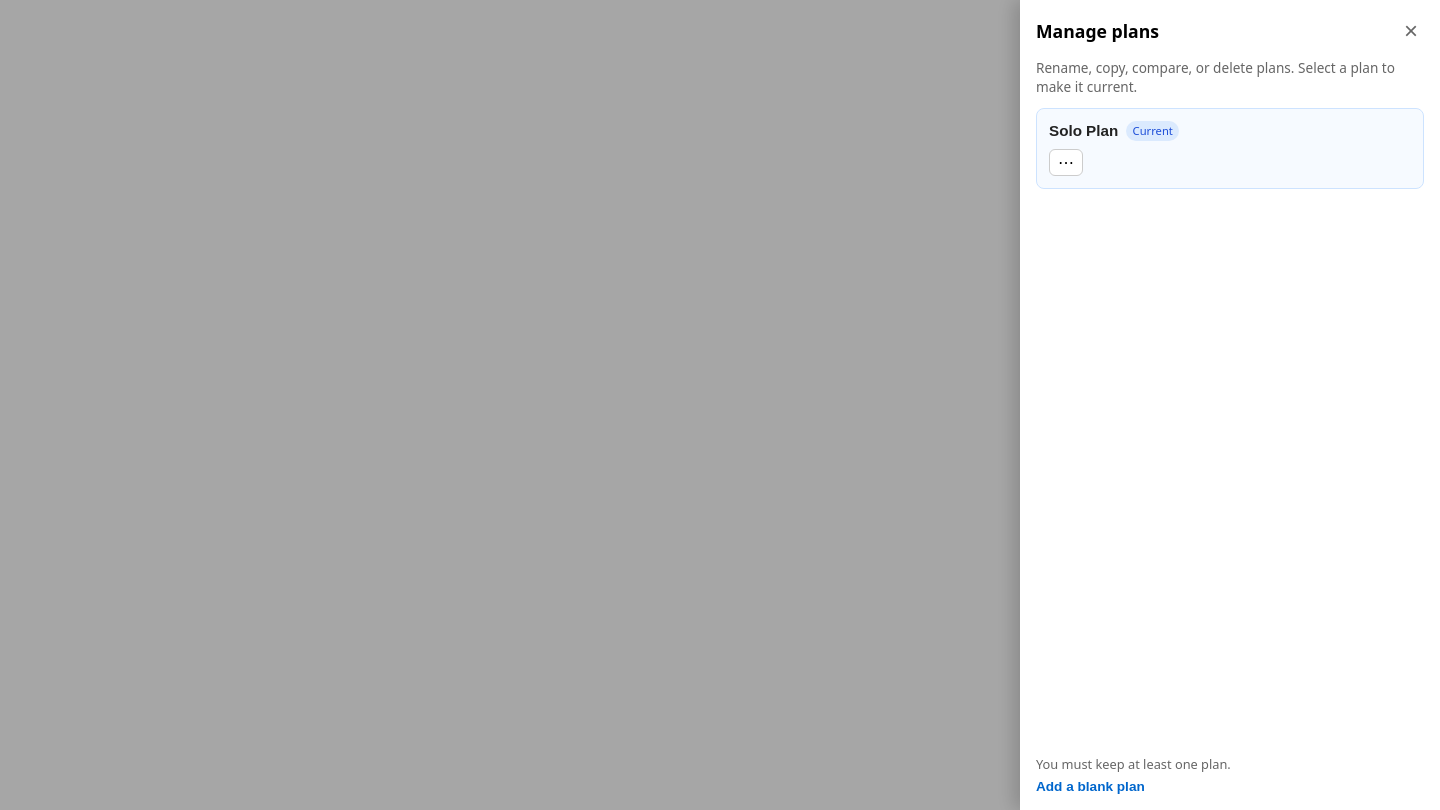
it: ManagePlansPanel › disables delete when only one plan exists
Click the button named "plan actions for solo plan" at (1066, 162), box [1049,149,1083,176]
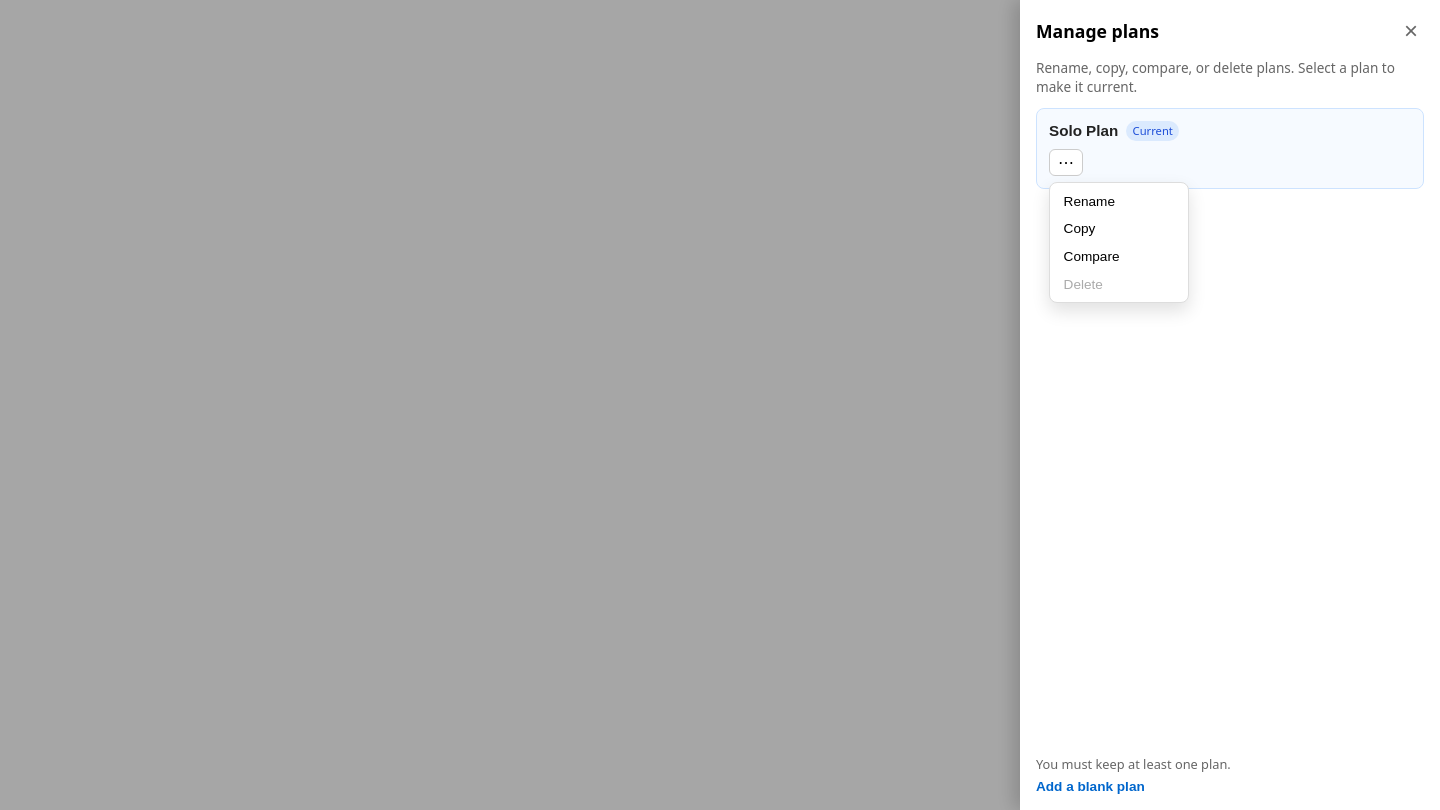
Expected: the text "You must keep at least one plan." is shown, [1036,755,1231,773]
Expected: the menu item "Delete" is disabled, [1054,270,1184,298]
